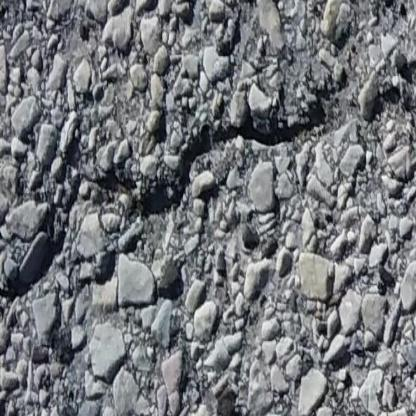Cracks: (0, 63, 416, 296)
